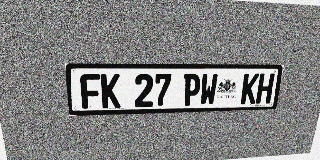2: (135, 74, 153, 107)
7: (153, 74, 172, 107)
F: (80, 74, 101, 109)
H: (255, 73, 275, 104)
K: (100, 74, 120, 108), (240, 73, 259, 104)
P: (182, 74, 201, 106)
W: (199, 74, 218, 105)
